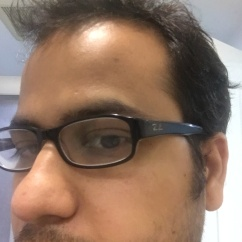glasses: (2, 126, 234, 168)
